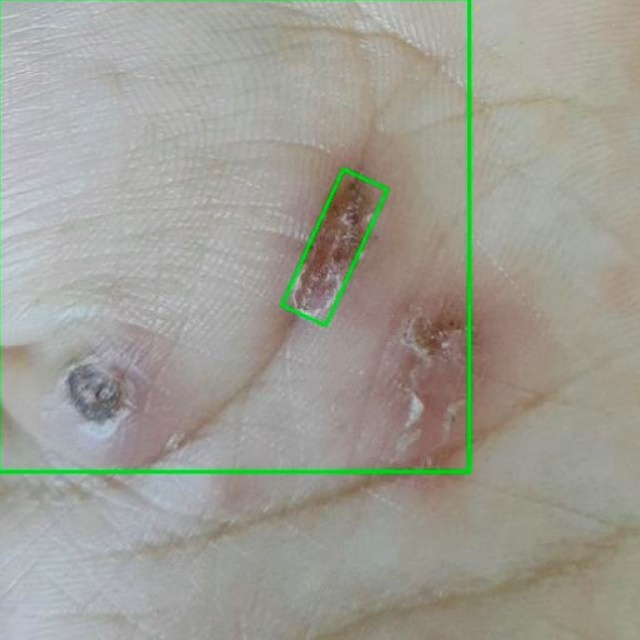Scabies: (0, 0, 469, 471), (282, 170, 388, 326)
